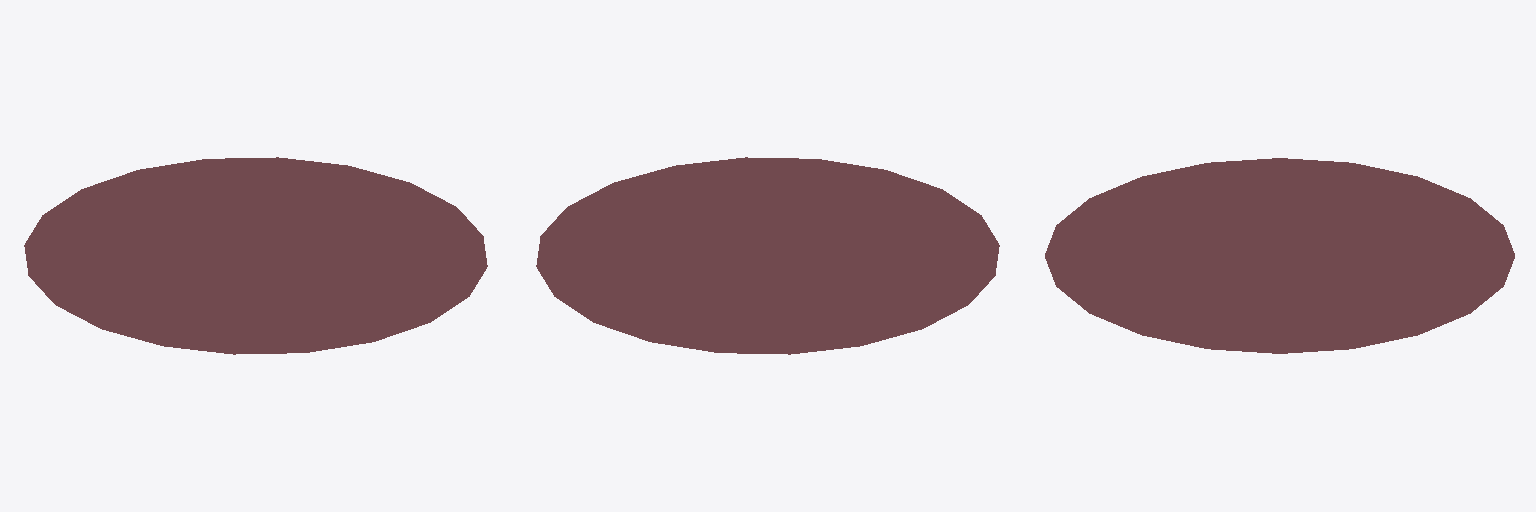
File: circbk.obj
The picture shows the model from 3 angles: view 1: azimuth 30°, elevation 25°; view 2: azimuth 150°, elevation 25°; view 3: azimuth 270°, elevation 25°; orthographic projection.
Parts seen in each view (by area): view 1: pCylinder1; view 2: pCylinder1; view 3: pCylinder1.
Boxes of the visible parts, box(x1,y1,x2,y2) form: pCylinder1: box(24, 157, 487, 354); pCylinder1: box(536, 157, 999, 354); pCylinder1: box(1045, 158, 1514, 353).
Size of the model in its own units: 6.4 by 0 by 6.5.